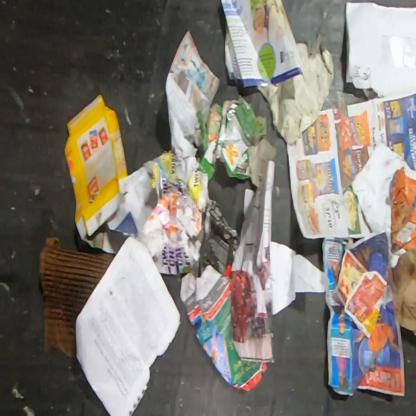cardboard: (36, 236, 116, 361), (64, 94, 130, 244)
metal: (225, 102, 240, 122)
